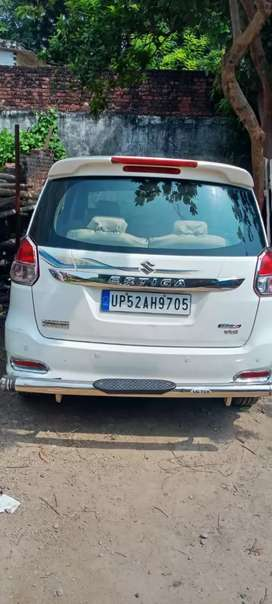UP52AH9705: (101, 286, 192, 317)
